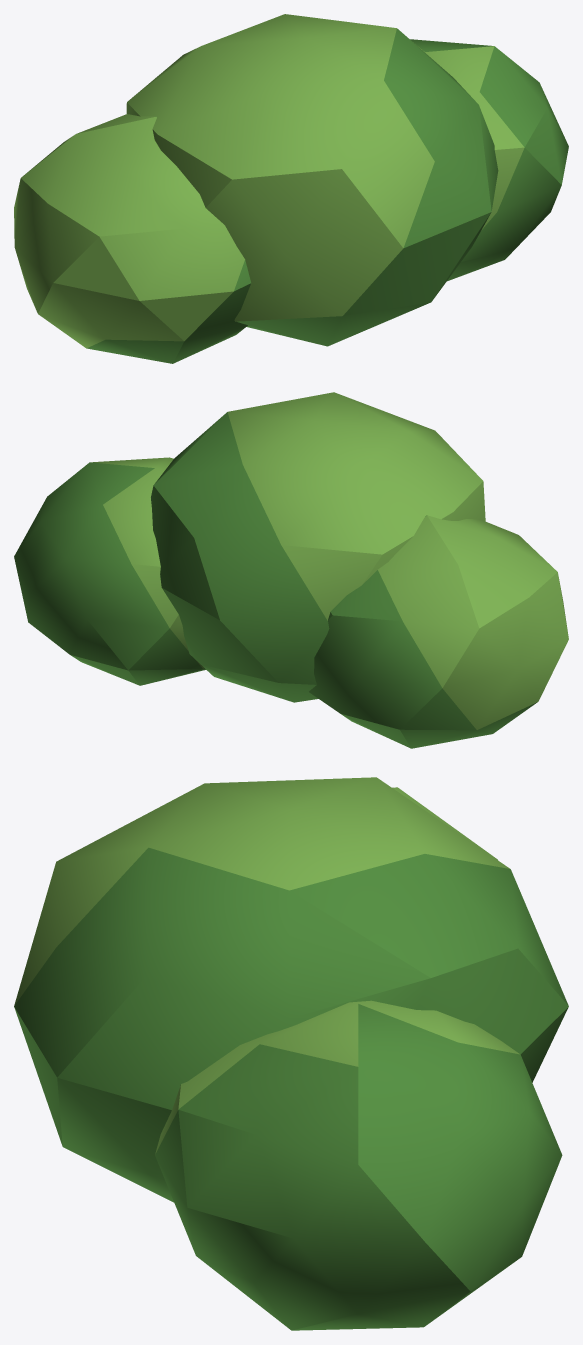
File: MeadowShrub.fbx
The picture shows the model from 3 angles, top to bottom: view 1: azimuth 30°, elevation 25°; view 2: azimuth 150°, elevation 25°; view 3: azimuth 270°, elevation 25°; orthographic projection. The views are drawn at different scales.
Parts seen in each view (by area): view 1: MeadowShrub; view 2: MeadowShrub; view 3: MeadowShrub.
Part boxes in pixels (x1,y1,x2,y2): MeadowShrub: [14, 14, 568, 363]; MeadowShrub: [14, 392, 568, 748]; MeadowShrub: [14, 777, 568, 1330].
Bounding box in the file's own units: 1.26 × 0.6462 × 0.8062.
